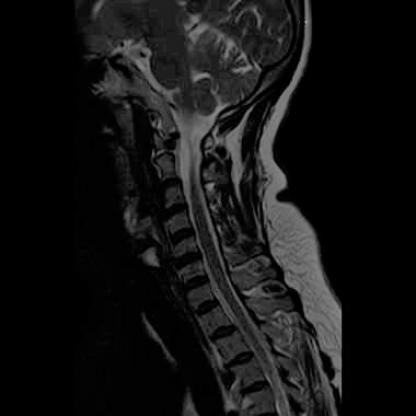Disc Bulgerotation: (179, 277, 212, 294), (173, 251, 202, 269), (169, 229, 195, 246), (160, 203, 189, 217), (158, 175, 181, 191)
Disc Herniationrotation: (192, 298, 222, 316)
